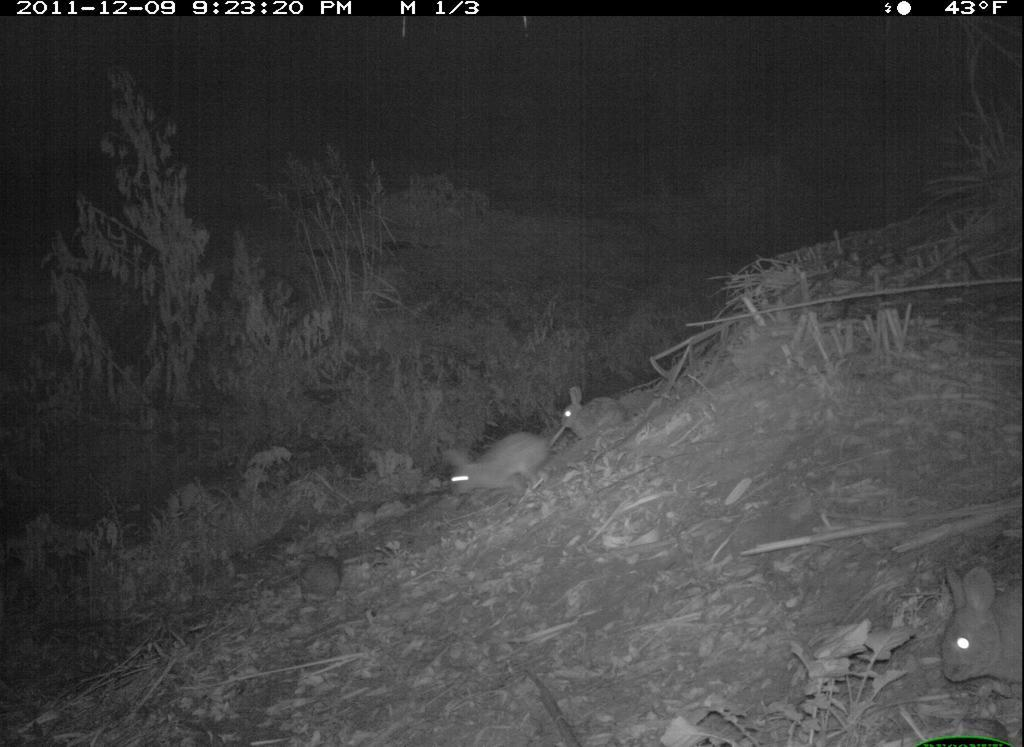rabbit: (905, 536, 1022, 702), (425, 419, 571, 520), (557, 382, 638, 447)
